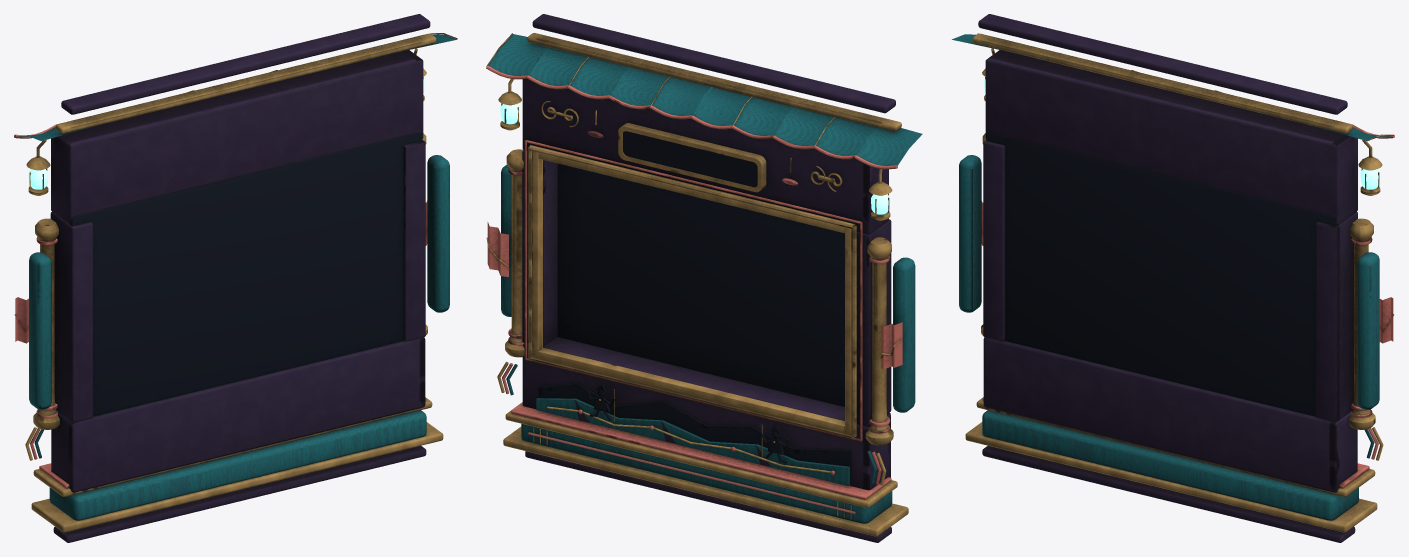
3 views of the same model, side by side, from view 1: azimuth 30°, elevation 25°; view 2: azimuth 150°, elevation 25°; view 3: azimuth 330°, elevation 25° (orthographic).
Parts seen in each view (by area): view 1: Violet_lacquer, Midnight_silhouette, Teal_woven_canopy, Aged_touring_brass, Coral_cloth; view 2: Midnight_silhouette, Violet_lacquer, Aged_touring_brass, Teal_woven_canopy, Coral_cloth, Teal_lantern_glow; view 3: Violet_lacquer, Midnight_silhouette, Teal_woven_canopy, Aged_touring_brass, Coral_cloth.
Boxes of the visible parts, <box> form: Violet_lacquer: <box>50,14,430,542</box>; Midnight_silhouette: <box>71,132,422,416</box>; Teal_woven_canopy: <box>17,34,456,520</box>; Aged_touring_brass: <box>14,33,457,532</box>; Coral_cloth: <box>14,33,431,488</box>; Midnight_silhouette: <box>538,131,851,483</box>; Violet_lacquer: <box>522,14,895,542</box>; Aged_touring_brass: <box>486,33,908,536</box>; Teal_woven_canopy: <box>488,34,922,523</box>; Coral_cloth: <box>486,65,902,514</box>; Teal_lantern_glow: <box>500,104,890,214</box>; Violet_lacquer: <box>978,14,1357,542</box>; Midnight_silhouette: <box>986,132,1337,416</box>; Teal_woven_canopy: <box>952,34,1390,520</box>; Aged_touring_brass: <box>965,33,1394,532</box>; Coral_cloth: <box>977,33,1394,488</box>.
Bounding box in the file's own units: 9.26 × 9.2 × 1.37.
Materials: 6 (5 with a texture image).
